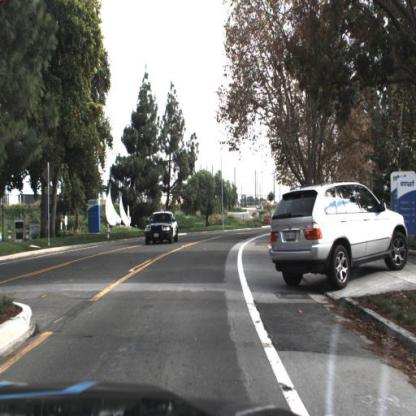car: (269, 180, 412, 295), (145, 207, 179, 247), (145, 211, 181, 247)
